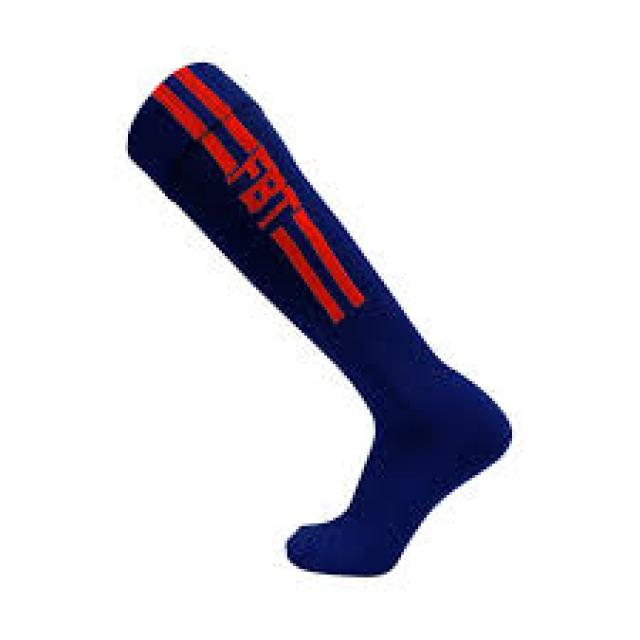sock: (125, 57, 512, 574)
